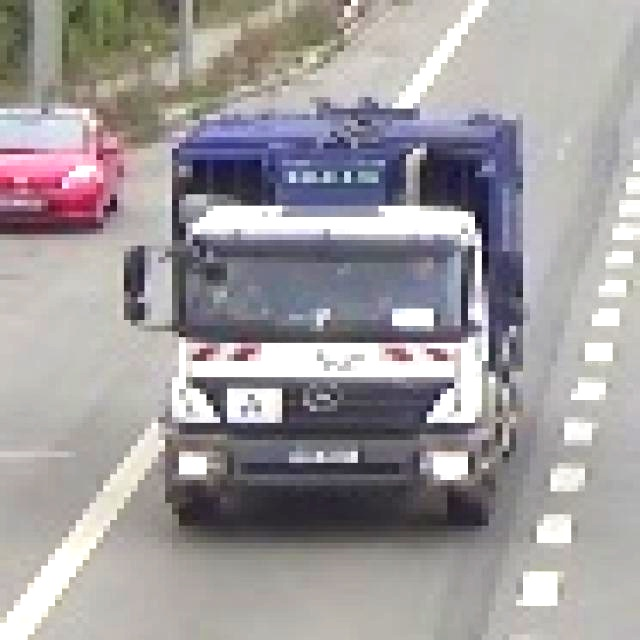truck: (99, 80, 561, 568)
